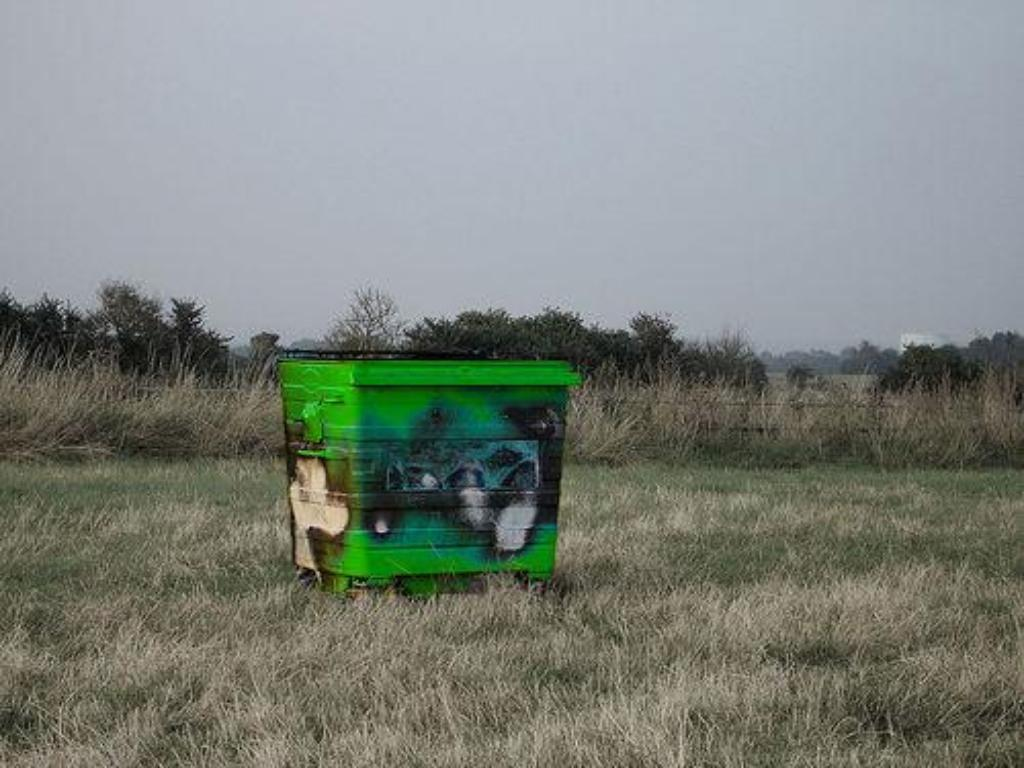dustbin: (272, 342, 595, 598)
